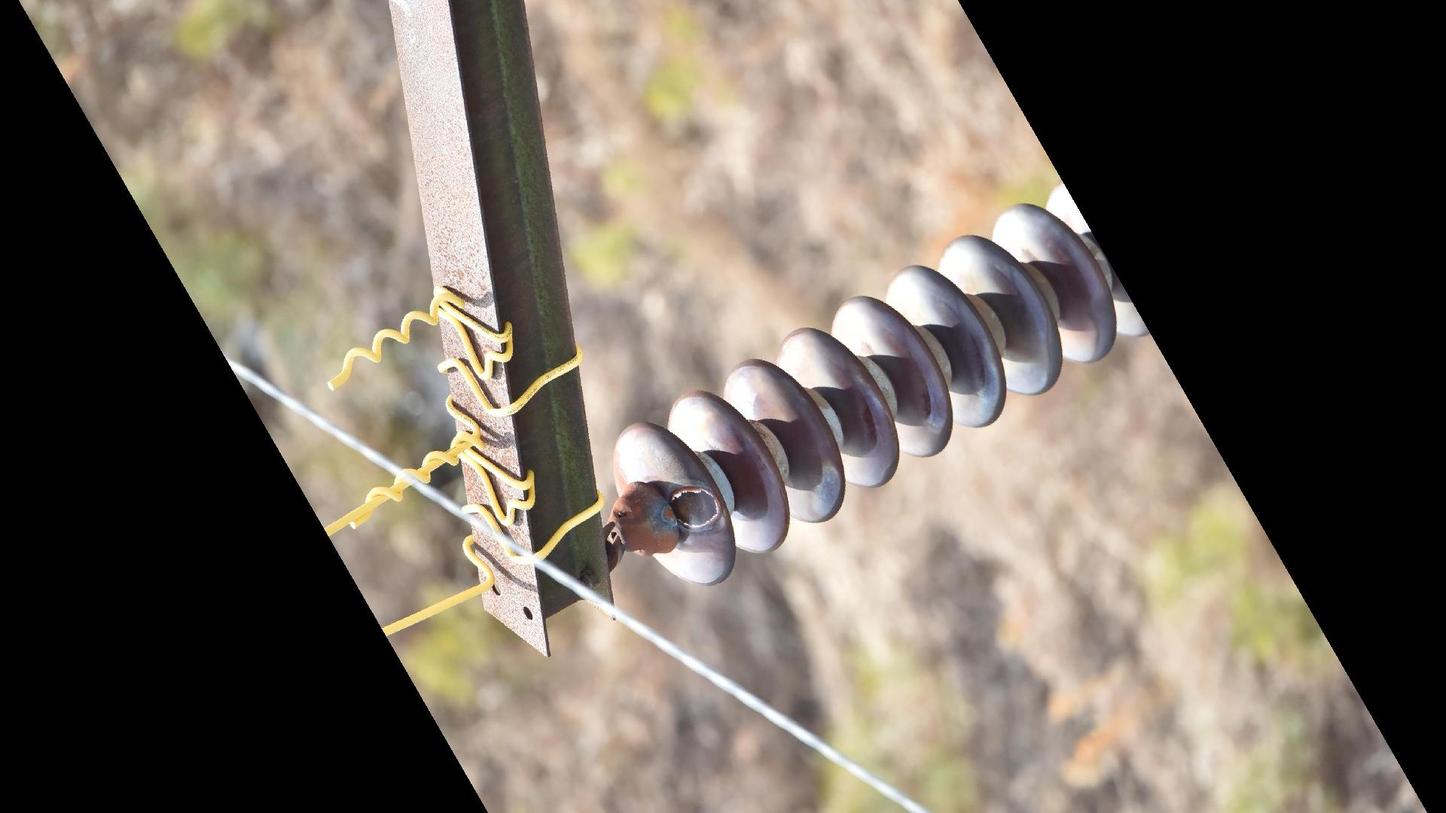insulator: (605, 179, 1153, 592)
insulator_flashover: (668, 486, 724, 531)
